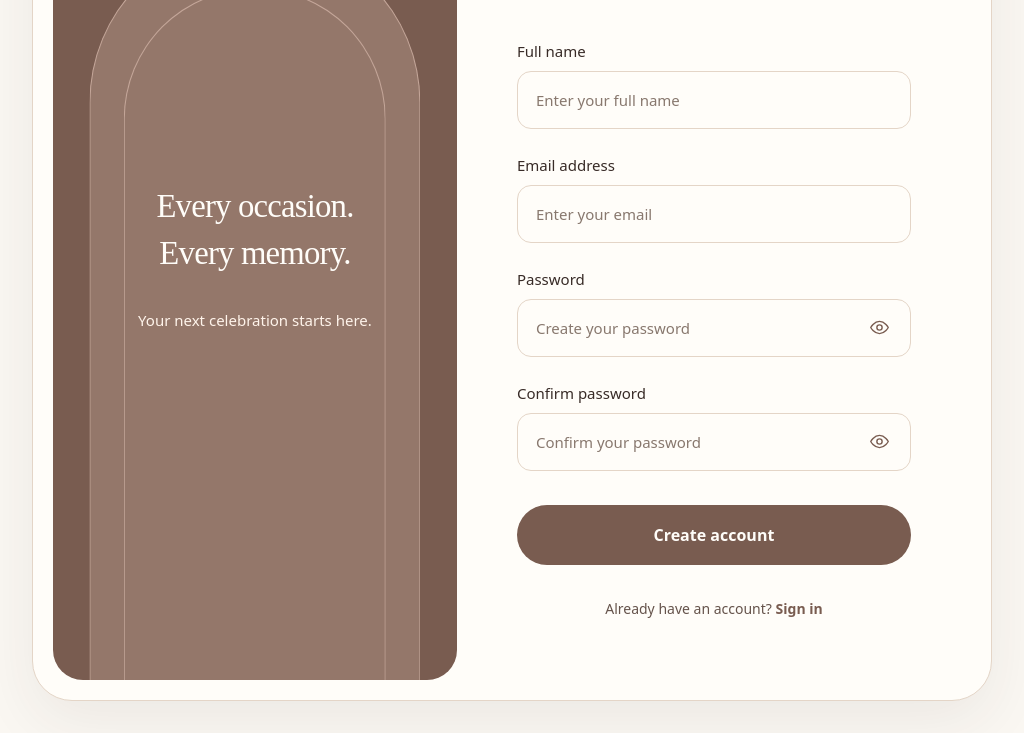
Test: Registration form › displays errors when all required fields are empty
This screenshot has width=1024, height=733.
(page scrolled)
Click the button "Create account": coordinates (714, 535) [517, 505, 911, 565]
(page scrolled)
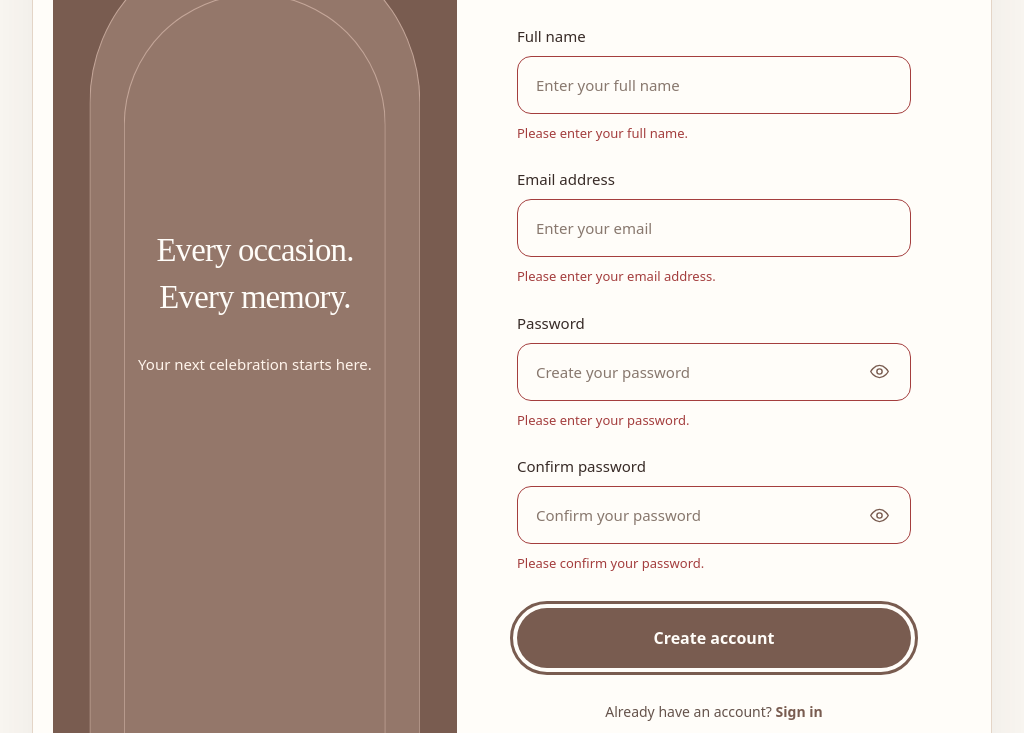
Expected: the text "Please enter your full name." is shown, [517, 124, 688, 142]
Expected: the text "Please enter your email address." is shown, [517, 267, 716, 285]
Expected: the text "Please enter your password." is shown, [517, 411, 690, 429]
